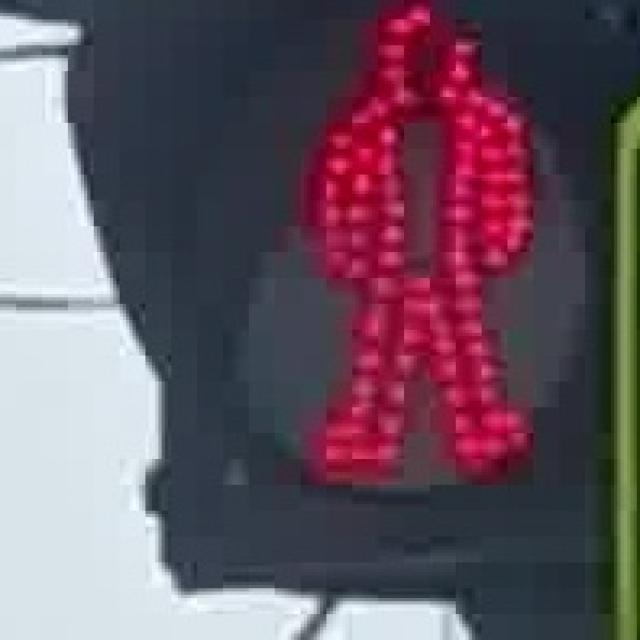red-crossing: (256, 9, 536, 488)
